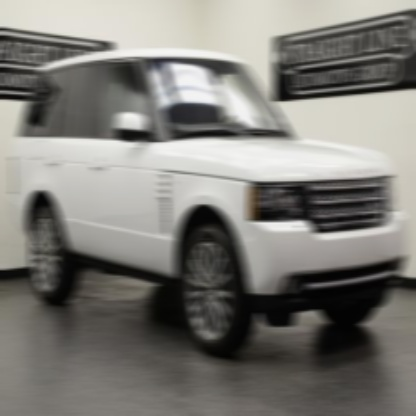Vehicle: (6, 47, 409, 354)
